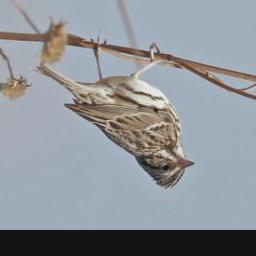Sparrow: (33, 34, 195, 190)
